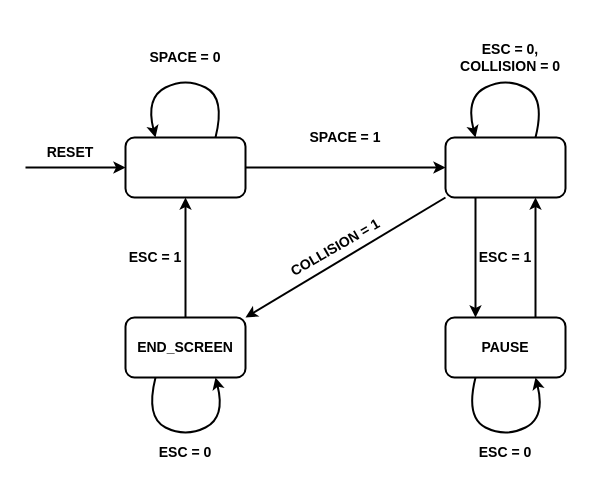
This 602x484 diagram has some shape labels left out. Each missing label, with the box of its shape:
IN_GAME: (444, 136, 566, 198)
START_SCREEN: (124, 136, 246, 198)
